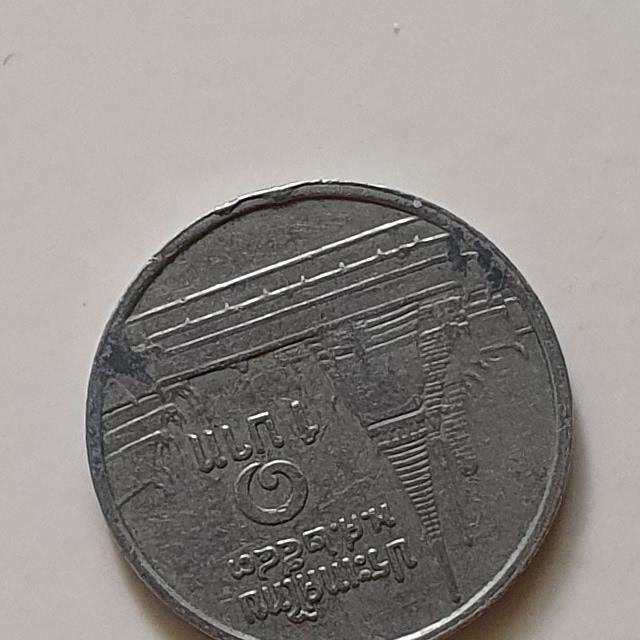1 Bath: (79, 168, 585, 640)
